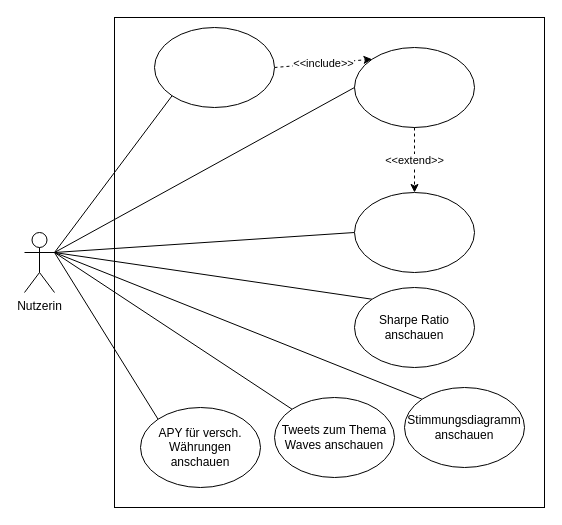
This 562x525 diagram has some shape labels left out. The shapes that lost their labels are listed below. From the top down, each one's centre as x and y in pixels, then its label:
At (x=214, y=67): "Moving Average Dropdown anklicken".
At (x=414, y=87): "Moving Average wählen".
At (x=414, y=232): "Moving Average anschauen".
